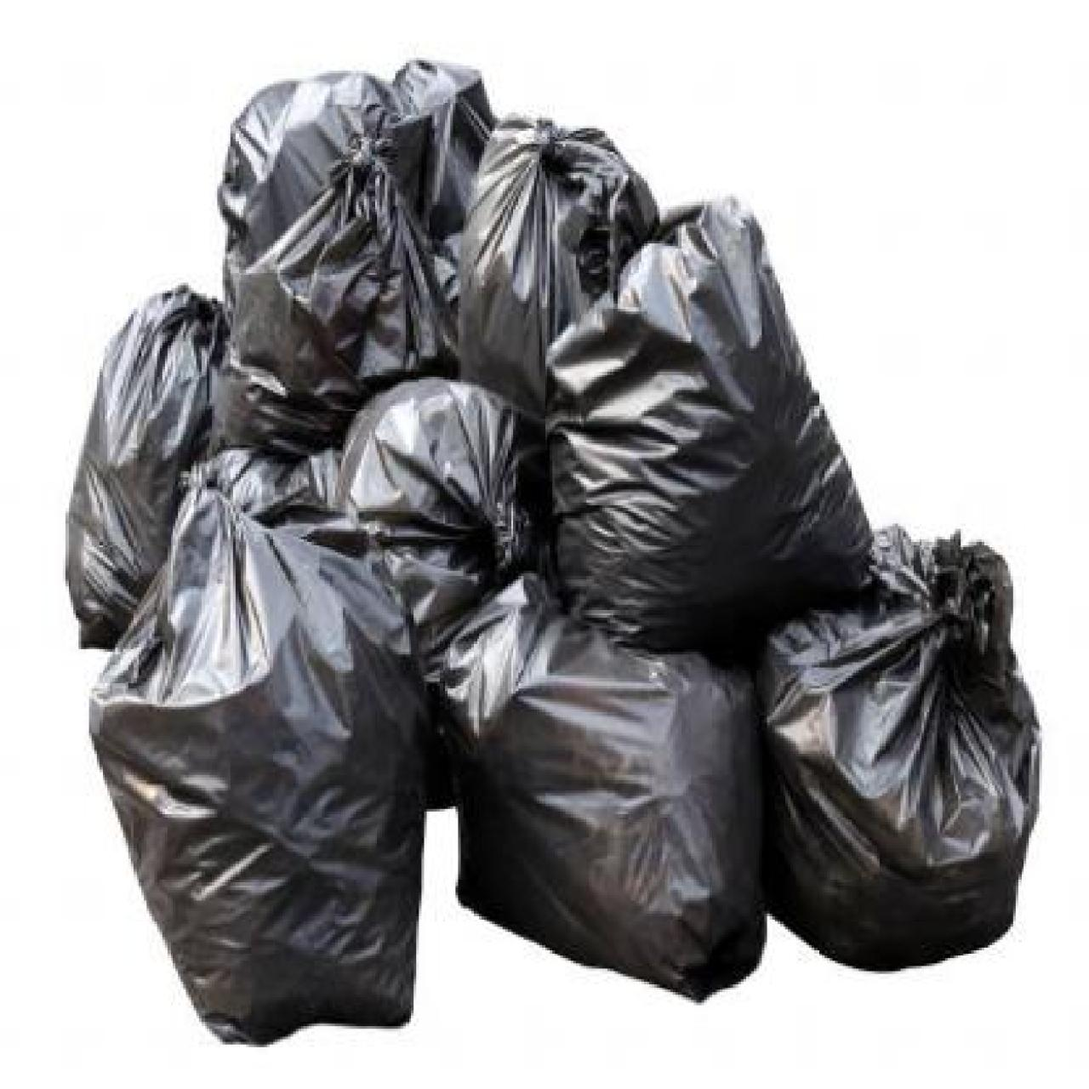normal_waste: (89, 479, 432, 1043), (546, 197, 871, 659), (440, 574, 765, 1000), (756, 526, 1041, 970), (225, 133, 454, 452), (219, 60, 486, 311), (334, 379, 548, 679), (459, 115, 657, 420), (66, 285, 226, 648)
